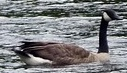goose: (13, 8, 126, 67)
